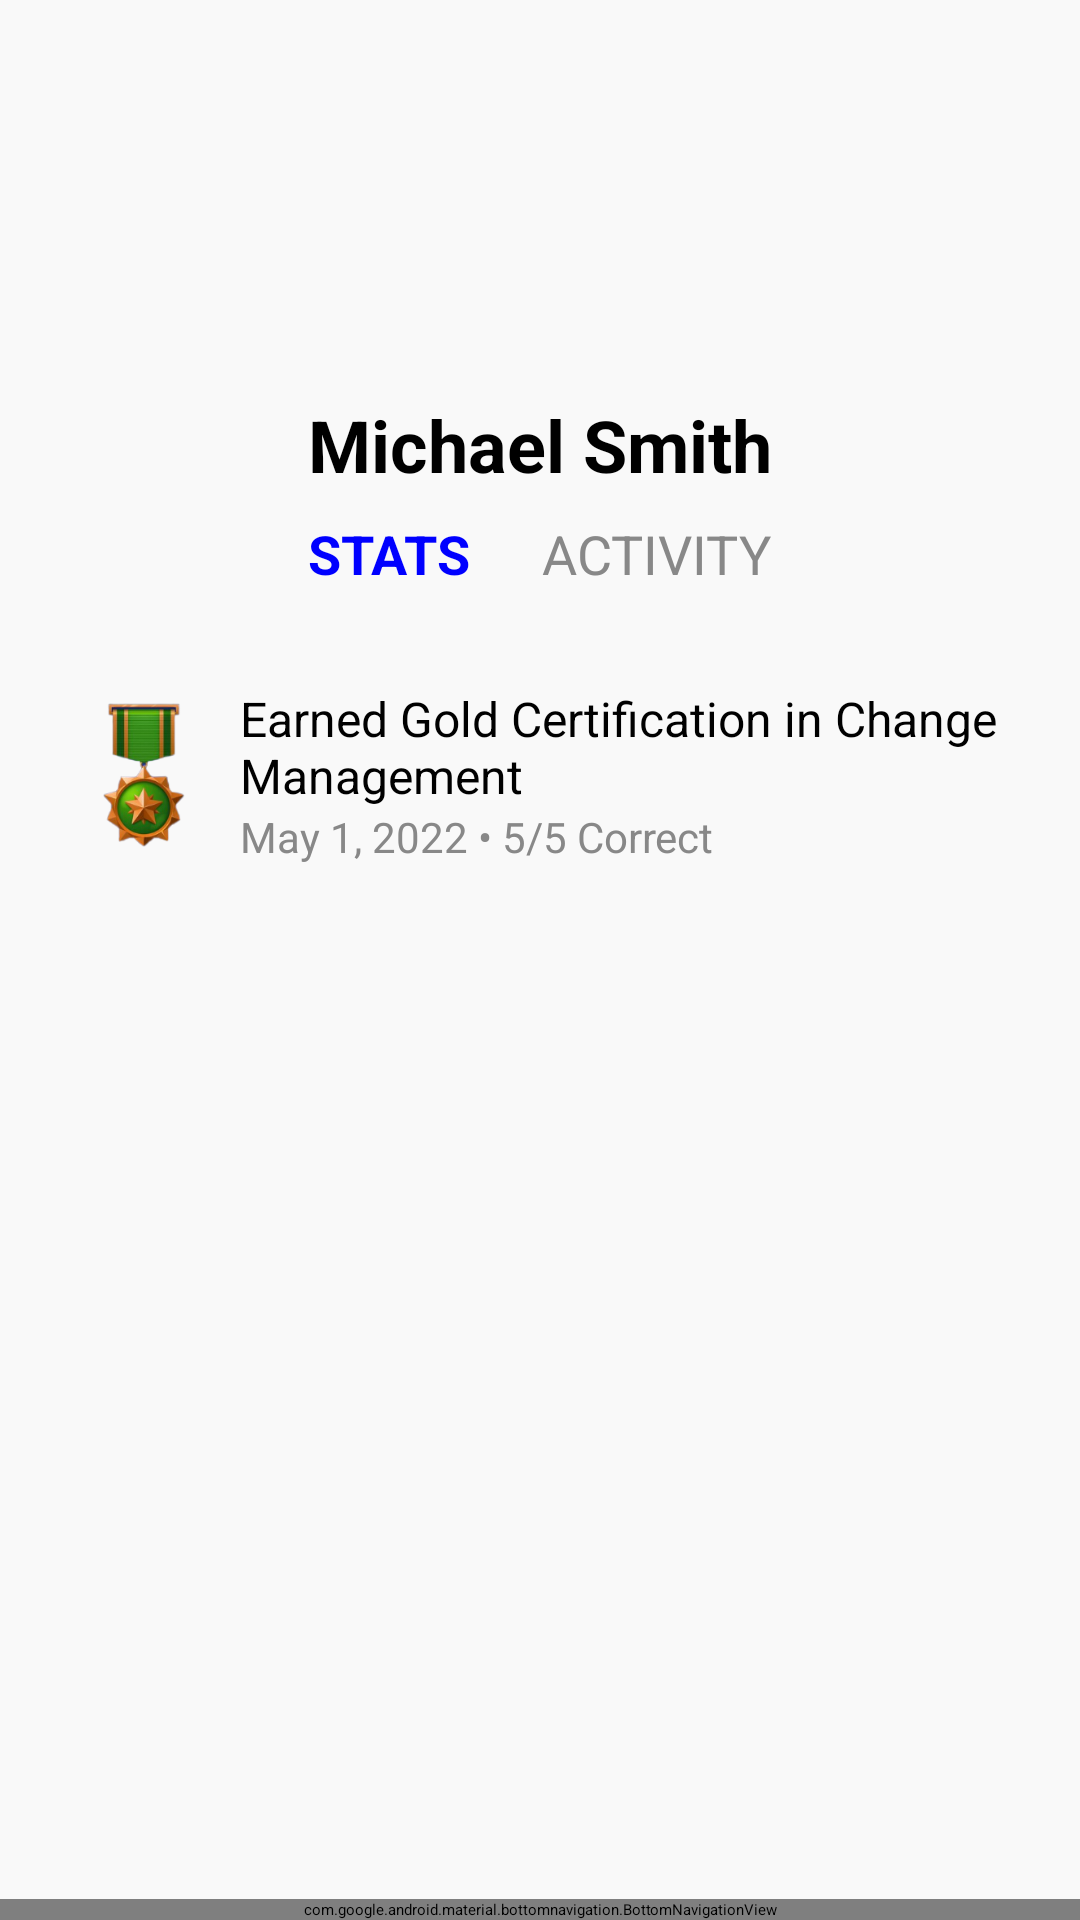

Icons on this 1080x1920 Android screen, each with its box as detection(x1, y1, x2, y2):
Gold Medal: detection(103, 704, 184, 846)
